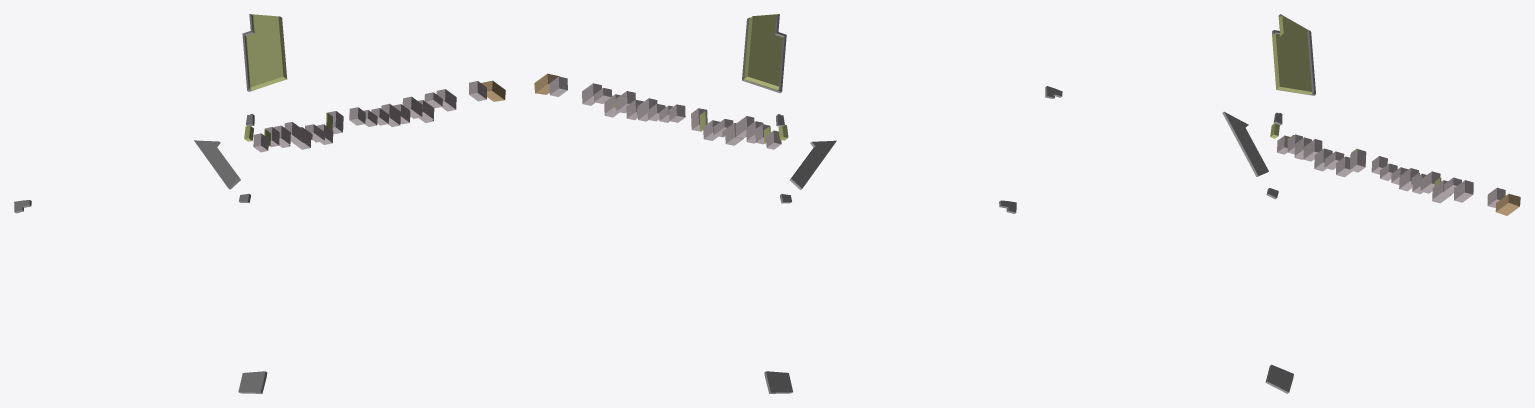
The picture shows the model from 3 angles, left to right: view 1: azimuth 30°, elevation 25°; view 2: azimuth 150°, elevation 25°; view 3: azimuth 330°, elevation 25°; orthographic projection.
Parts seen in each view (by area): view 1: 0_2_1_3_0_0; view 2: 0_2_1_3_0_0; view 3: 0_2_1_3_0_0.
Boxes of the visible parts, <box> form: 0_2_1_3_0_0: <box>14,14,505,393</box>; 0_2_1_3_0_0: <box>534,14,1016,393</box>; 0_2_1_3_0_0: <box>1045,14,1520,393</box>.
Bounding box in the file's own units: 445 × 337 × 21.14.
